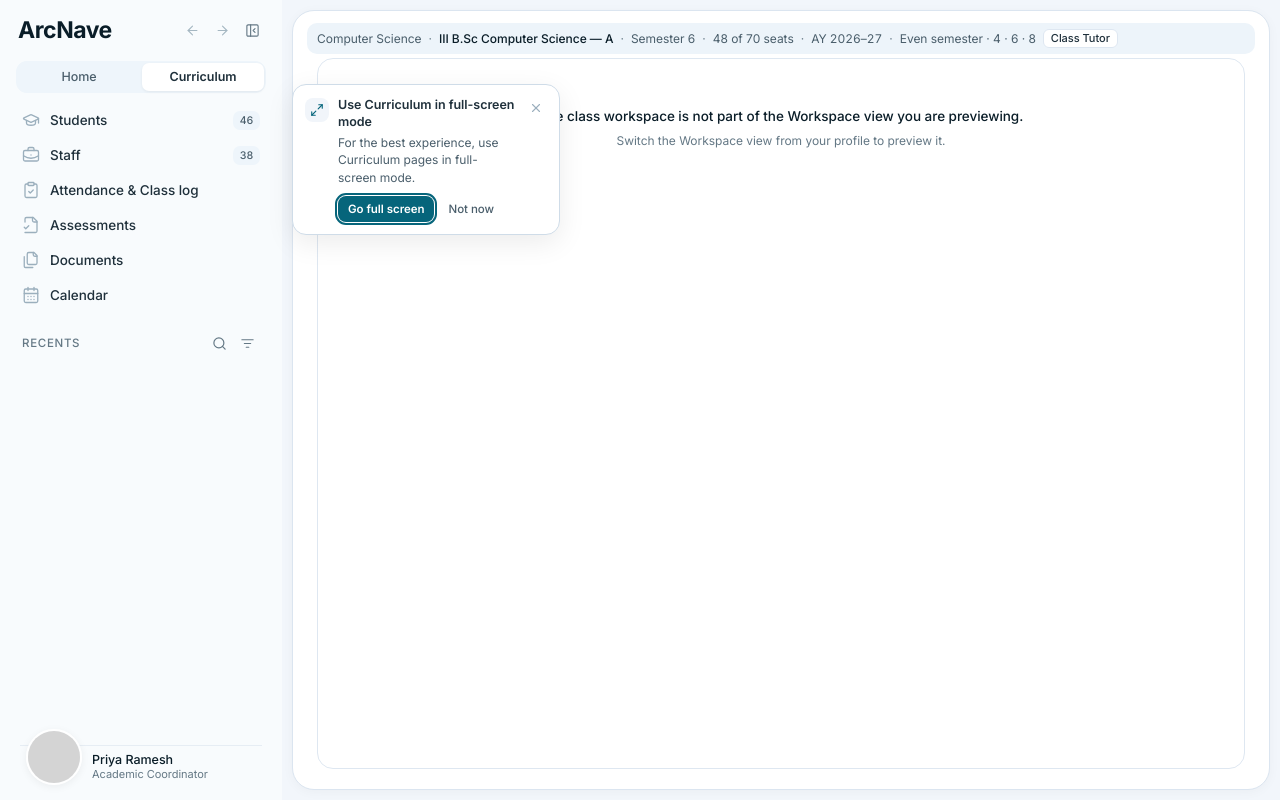
L4 scope — exactly one class › has one active class and no switcher to reach another
This screenshot has width=1280, height=800.
Step 1. Click the button with aria-label "open profile" → (141, 767), box [20,746,262,788]
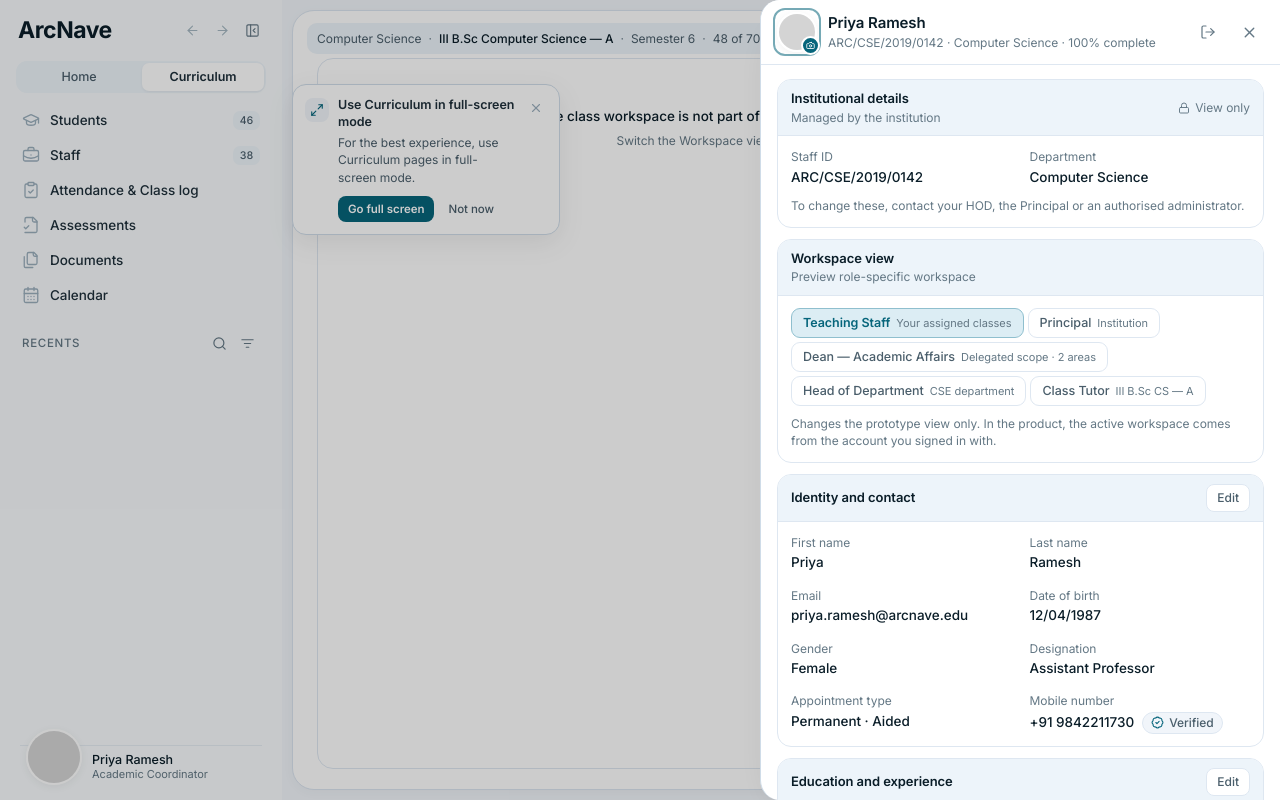
Step 2. Click the radio button labelled "Class Tutor" → (1118, 391), box [1030,376,1206,406]
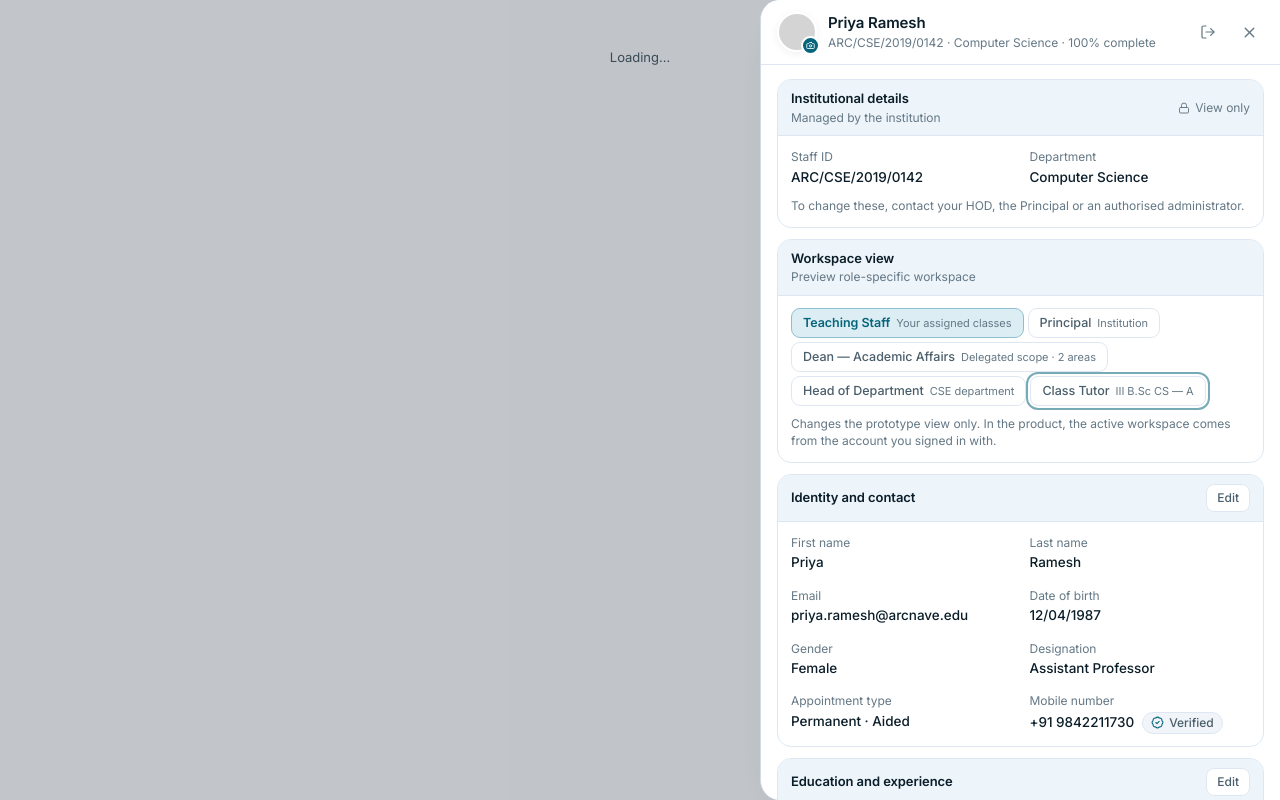
Step 3. Click the button named "close profile" → (1249, 32), box [1234,17,1264,47]
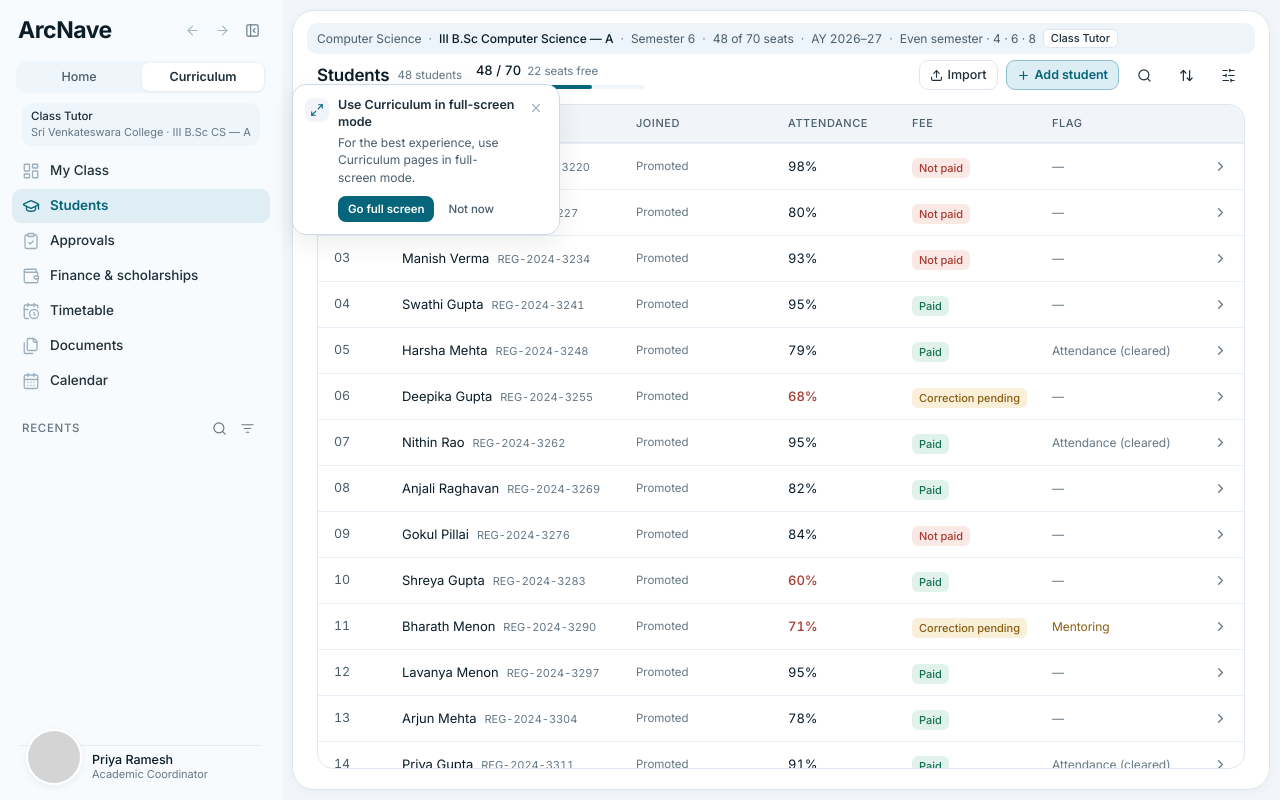
Expected: the heading "Students" is shown, [317,63,389,87]
